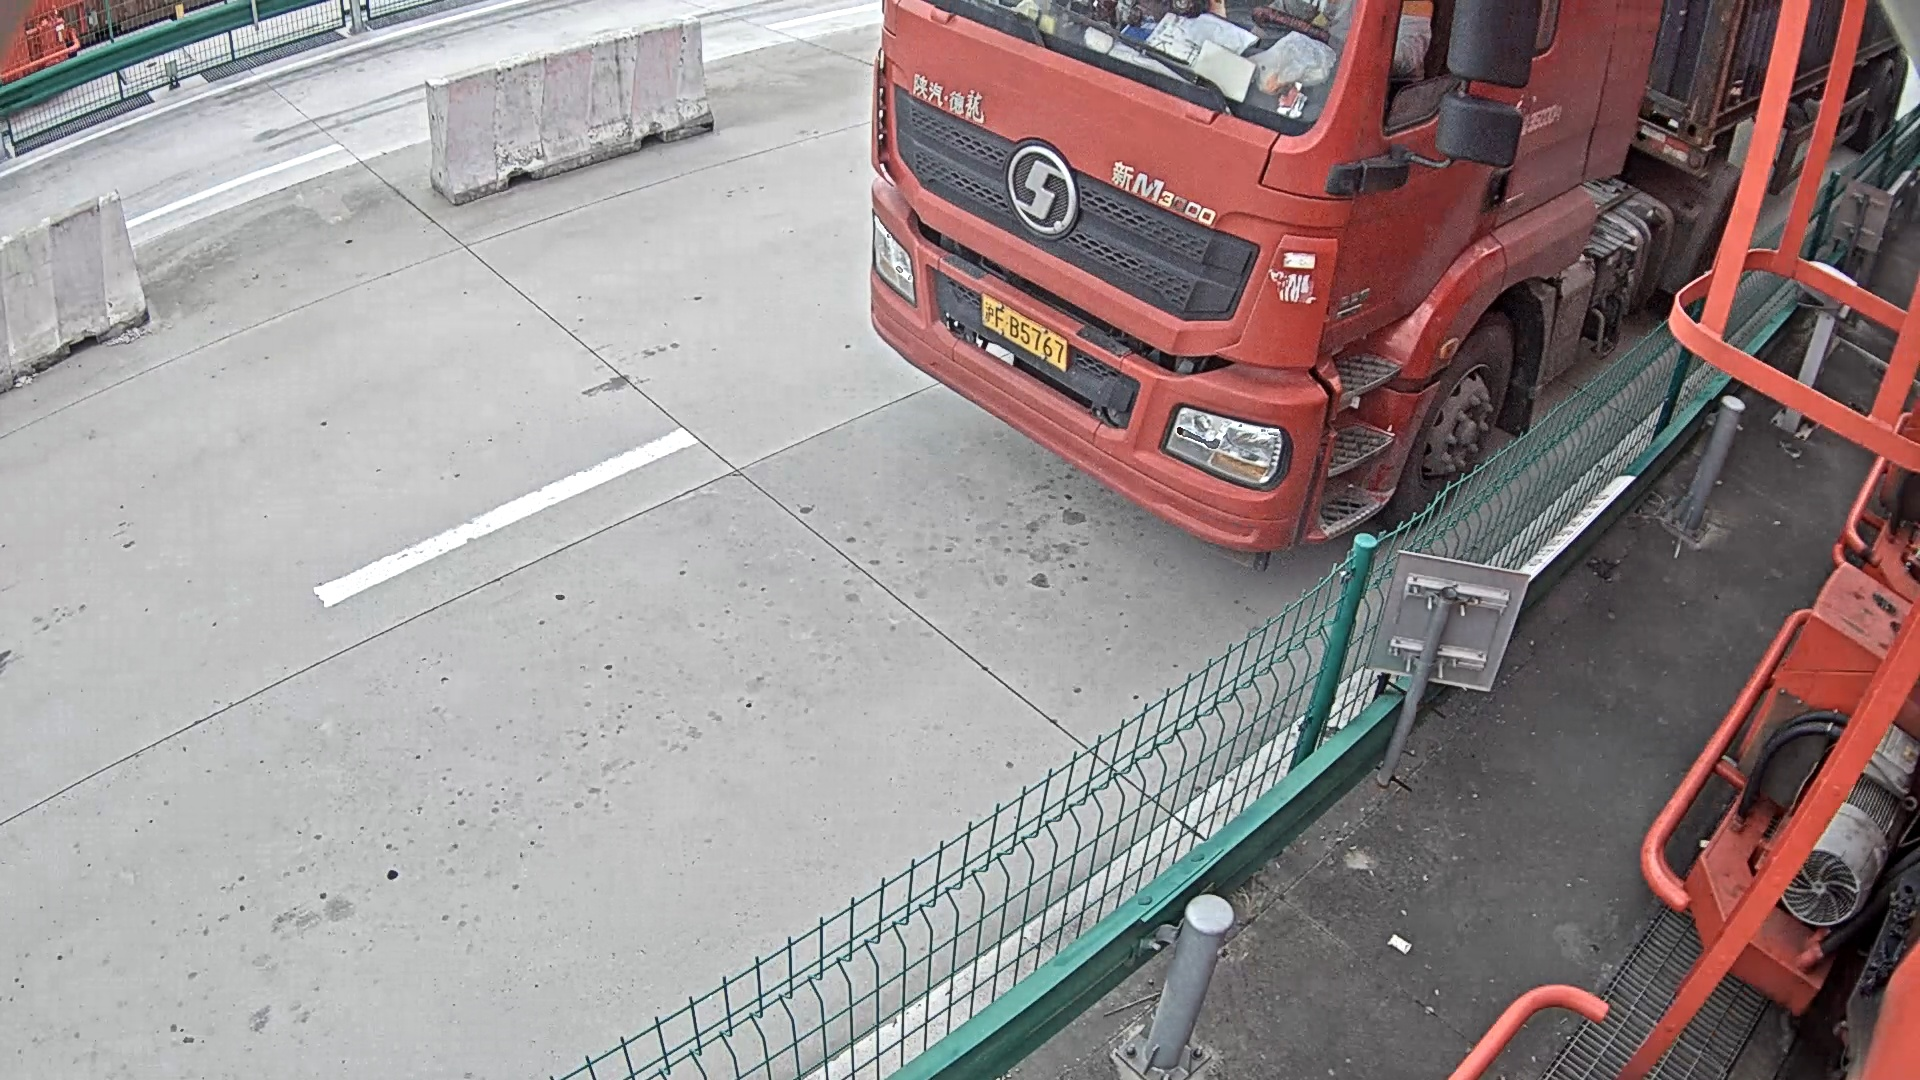head: (868, 1, 1658, 551)
plate: (976, 295, 1065, 371)
